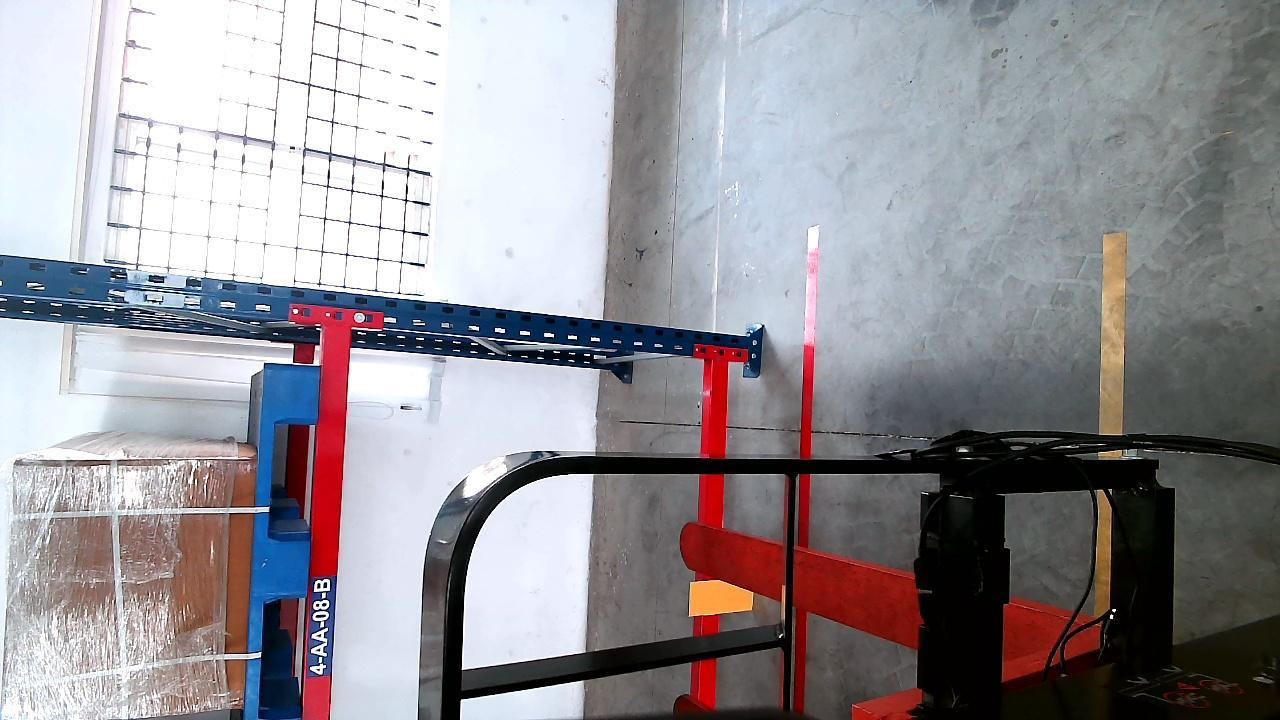red_line: (792, 230, 822, 720)
yellow_line: (1100, 228, 1124, 438)
